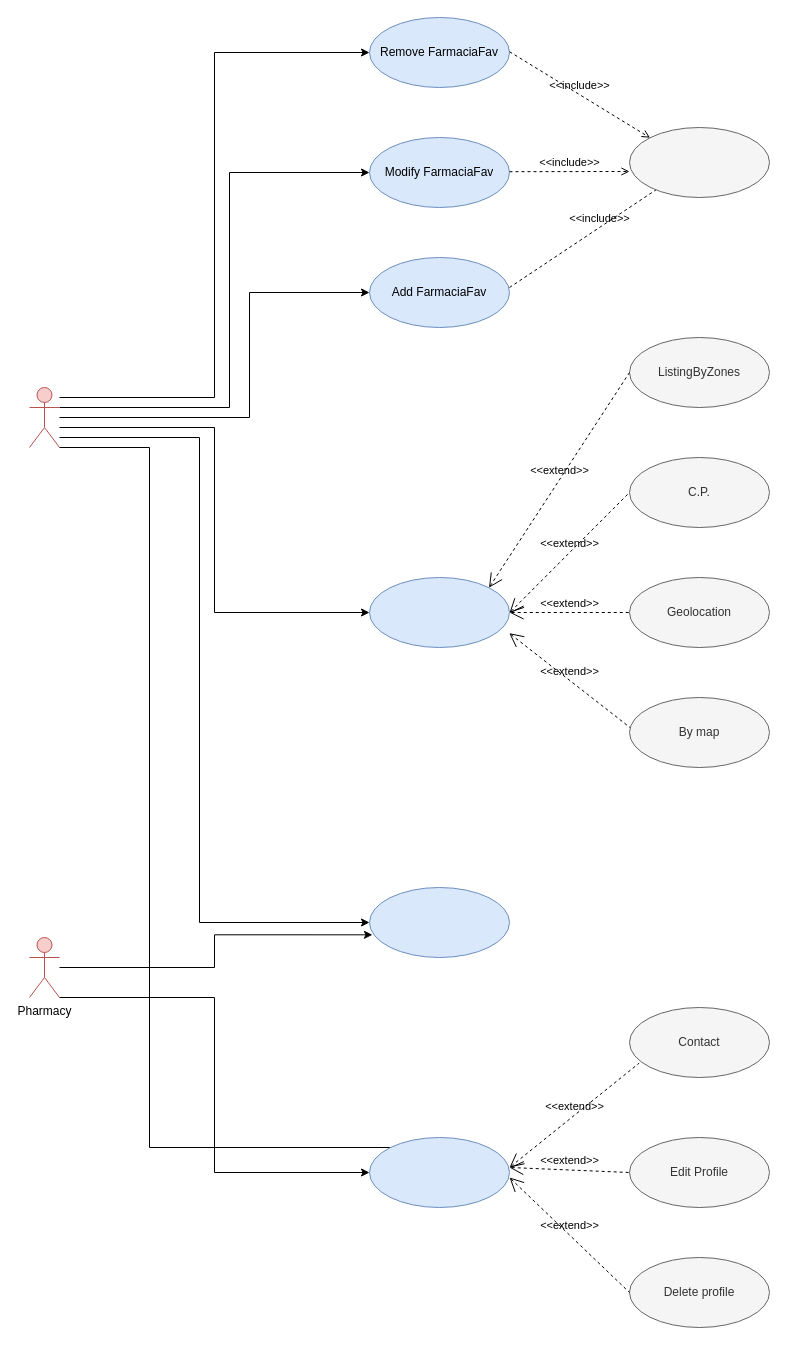
Some shapes in this 787 by 1345 pixel diagram are drawn without their labels. The shapes that lost their labels are listed below. From the top down, each one's centre as x and y in pixels, then its label:
point (699, 162): Login
point (44, 417): User
point (439, 612): Search Pharmacy
point (439, 922): Register Profile
point (439, 1172): Identify
